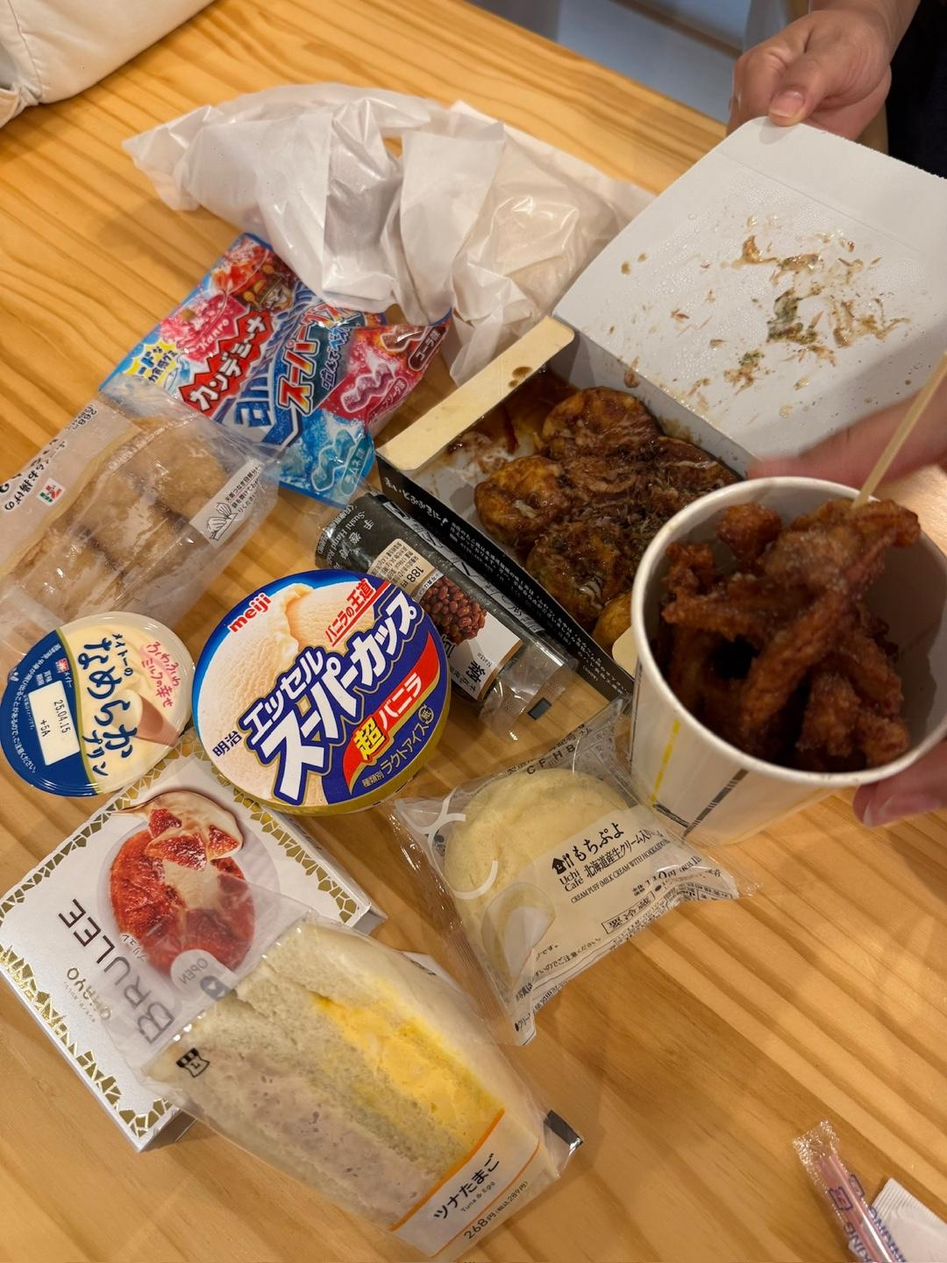Bottle: (317, 491, 572, 736)
Lunch Box: (378, 122, 946, 691), (0, 737, 383, 1150), (0, 376, 279, 678)
cup: (630, 477, 946, 844), (192, 571, 450, 814), (0, 613, 192, 796)
